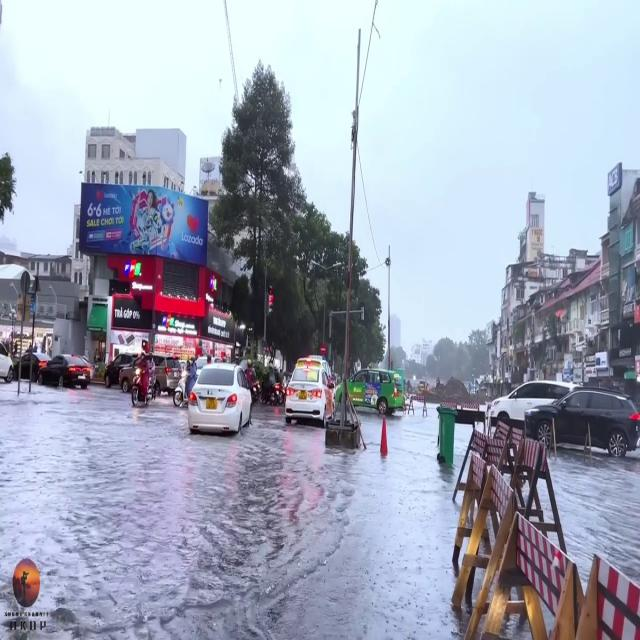bien_vang: (298, 389, 308, 400), (206, 398, 217, 408)
